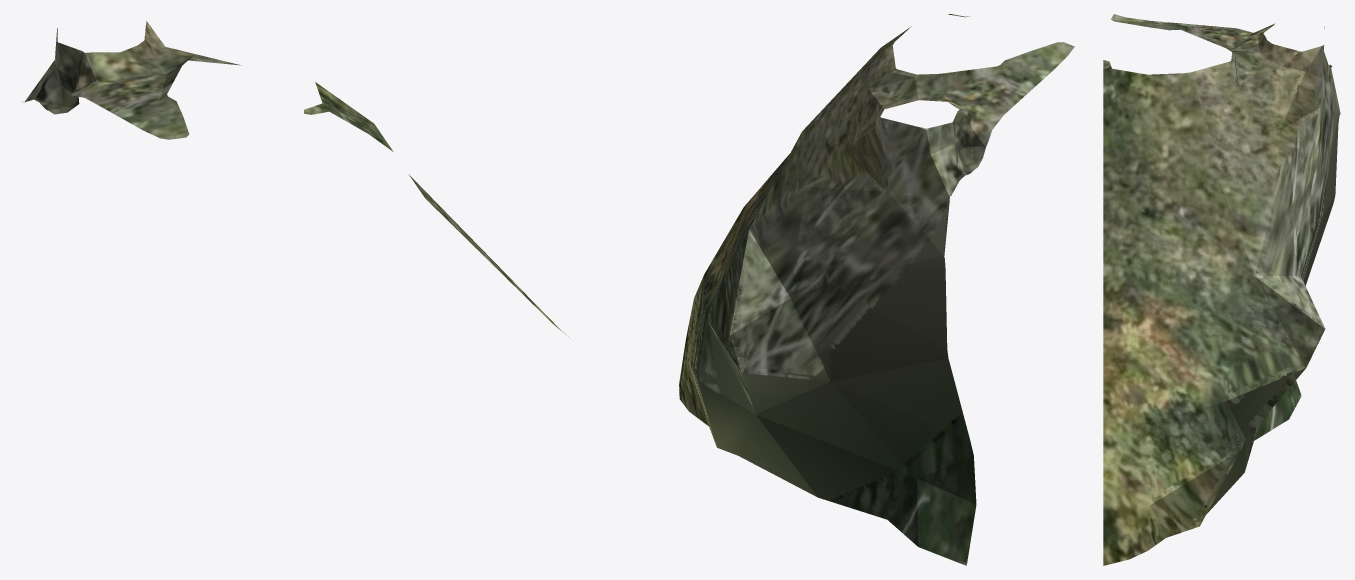
The picture shows the model from 3 angles, left to right: view 1: azimuth 30°, elevation 25°; view 2: azimuth 150°, elevation 25°; view 3: azimuth 270°, elevation 25°; orthographic projection. The views are drawn at different scales.
Size of the model in its own units: 2.82 by 2.95 by 1.66.
3 materials, 3 textured.
